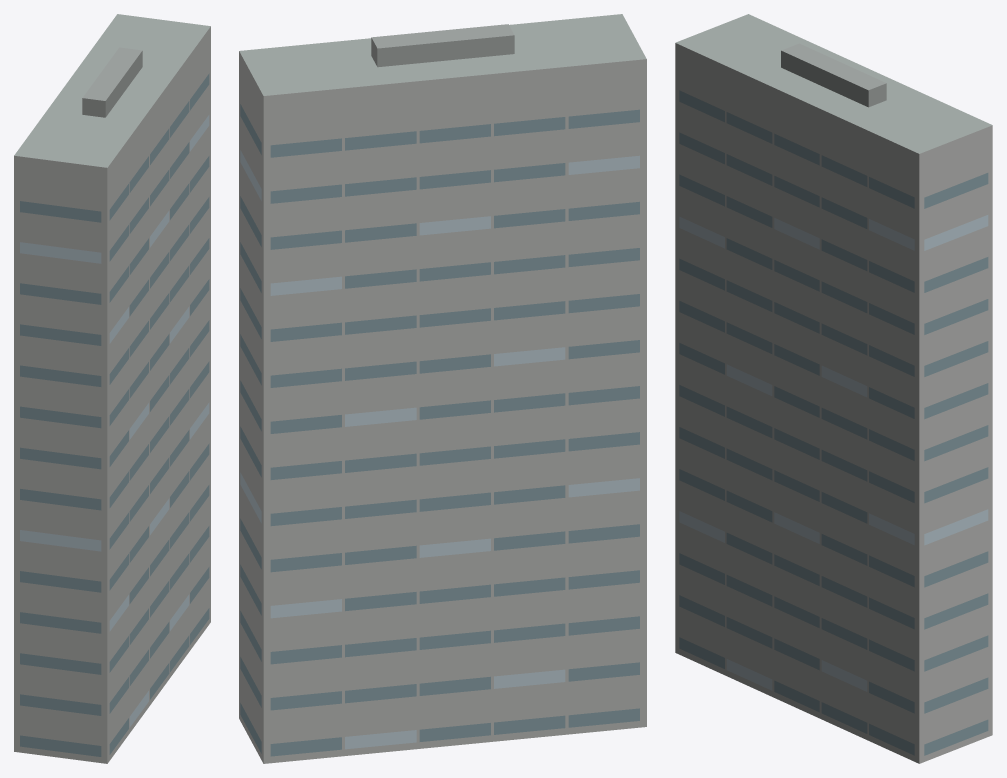
Rendered from fallback-godeok-raemian-hillstate-119.glb.
The picture shows the model from 3 angles, left to right: view 1: azimuth 30°, elevation 25°; view 2: azimuth 150°, elevation 25°; view 3: azimuth 270°, elevation 25°; orthographic projection. The views are drawn at different scales.
Parts seen in each view (by area): view 1: fallback-godeok-raemian-hillstate-119; view 2: fallback-godeok-raemian-hillstate-119; view 3: fallback-godeok-raemian-hillstate-119.
Part boxes in pixels (<box>): fallback-godeok-raemian-hillstate-119: <box>14,14,210,763</box>; fallback-godeok-raemian-hillstate-119: <box>239,14,646,763</box>; fallback-godeok-raemian-hillstate-119: <box>675,14,992,763</box>.
Size of the model in its own units: 42.14 by 88 by 40.4.
